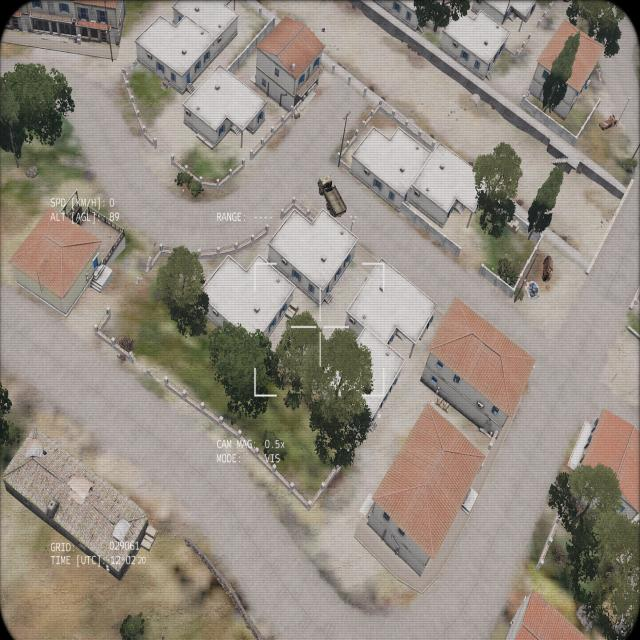truck: (316, 174, 348, 220)
